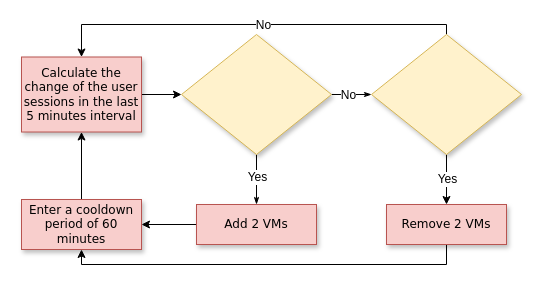
Some shapes in this 545 by 290 pixel diagram are drawn without their labels. The centre of each missing label's shape, as x and y in pixels:
If it decreased more than 50% for more than 3 minutes: the point at 447,96
If it increased more than 50% for more than 3 minutes: the point at 257,96
